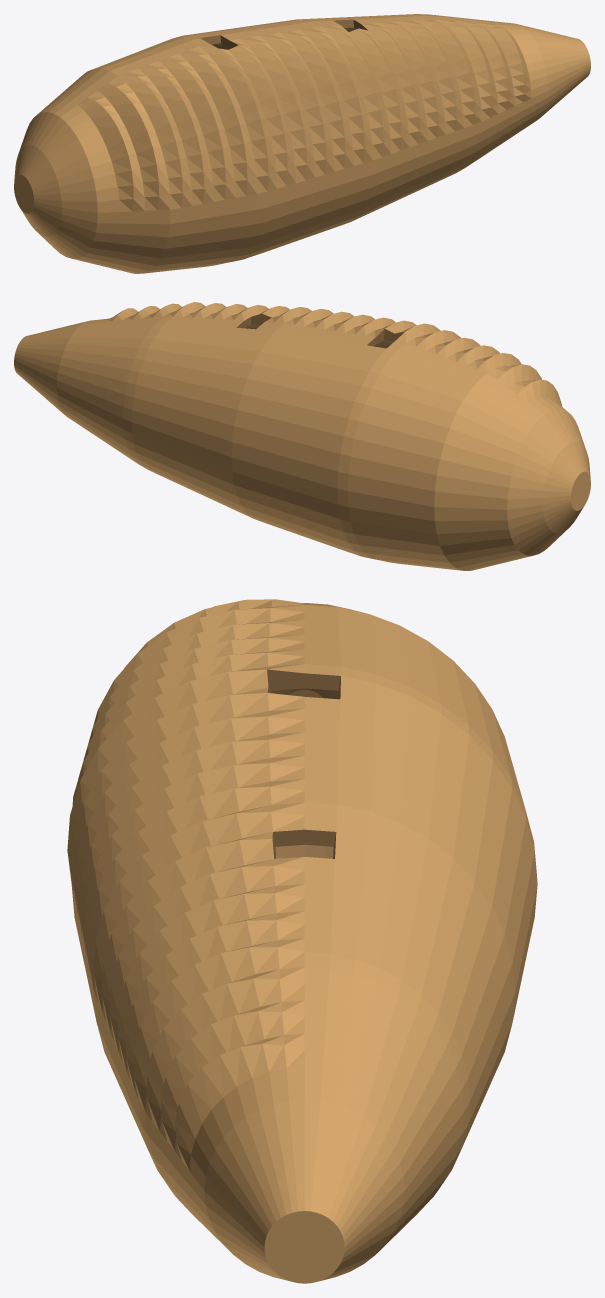
The picture shows the model from 3 angles, top to bottom: view 1: azimuth 30°, elevation 25°; view 2: azimuth 150°, elevation 25°; view 3: azimuth 270°, elevation 25°; orthographic projection. The views are drawn at different scales.
Parts seen in each view (by area): view 1: WholeGroundFootHollowCorrugatedGourd; view 2: WholeGroundFootHollowCorrugatedGourd; view 3: WholeGroundFootHollowCorrugatedGourd.
Boxes of the visible parts, x1,y1,x2,y2 form: WholeGroundFootHollowCorrugatedGourd: (14, 14, 590, 273); WholeGroundFootHollowCorrugatedGourd: (14, 302, 590, 570); WholeGroundFootHollowCorrugatedGourd: (67, 599, 537, 1283).
Size of the model in its own units: 0.385 by 0.132 by 0.1408.
